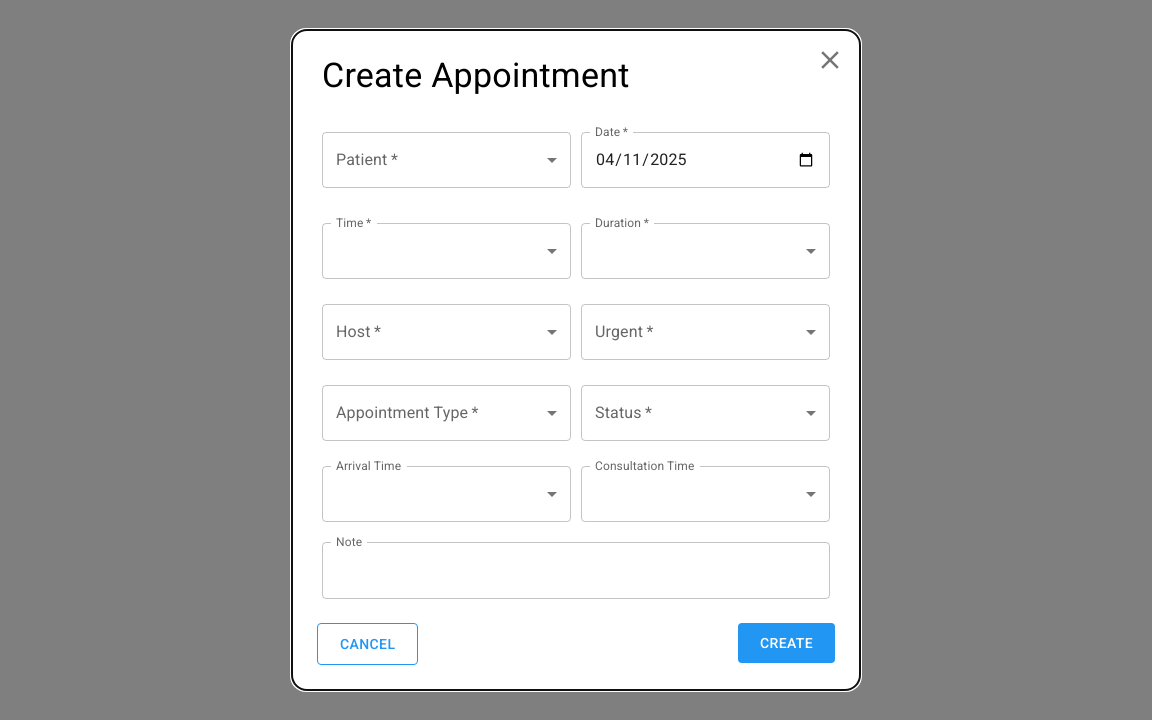
Test case: Create Appointment Modal › invalid no input
Click the button "Create".
click(786, 643)  # box [738,622,835,663]
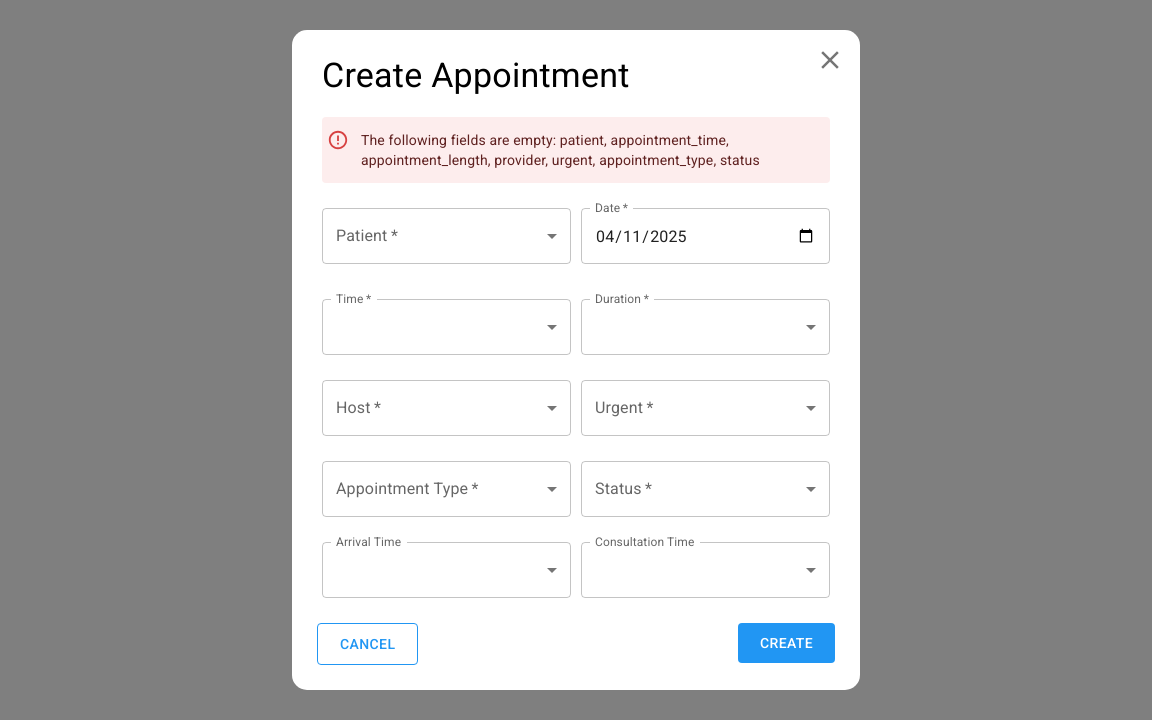
Now the text "The following fields are empty: patient, appointment_time, appointment_length, provider, urgent, appointment_type, statu" is shown, box [361,132,760,168]
